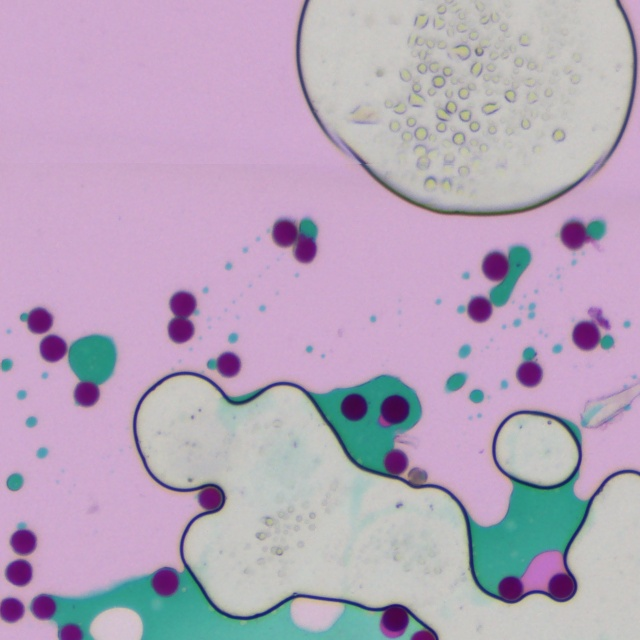non_viable: (407, 467, 427, 484)
viable: (382, 605, 408, 635), (380, 396, 407, 424), (573, 322, 599, 348), (561, 221, 587, 247), (549, 574, 575, 600), (153, 566, 177, 594), (483, 253, 506, 279), (6, 560, 30, 584), (41, 336, 65, 360), (171, 293, 194, 318), (199, 487, 224, 510), (499, 577, 522, 601), (28, 309, 51, 332), (342, 395, 365, 418), (169, 318, 192, 341), (0, 598, 23, 621), (12, 530, 34, 553), (274, 221, 295, 245), (296, 235, 315, 261), (518, 363, 540, 385), (32, 595, 54, 617), (217, 353, 239, 375), (469, 297, 490, 320), (75, 383, 98, 404), (386, 451, 406, 474), (60, 625, 80, 638), (414, 629, 436, 638)
